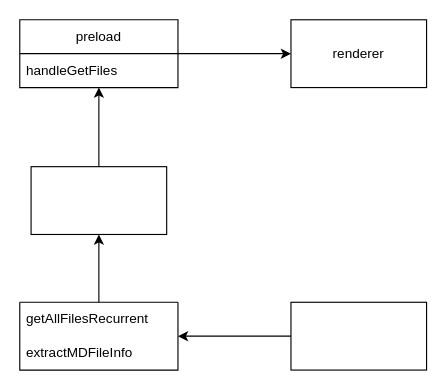
Image size: 446x390. Some labels were removed from this diagram. The centre of each missing label's shape, as x and y in pixels:
index: pixel 98 200
navigator: pixel 358 335
